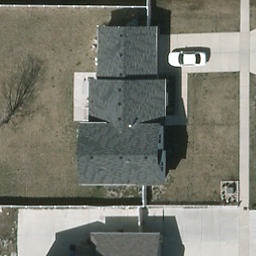car: (166, 51, 207, 69)
